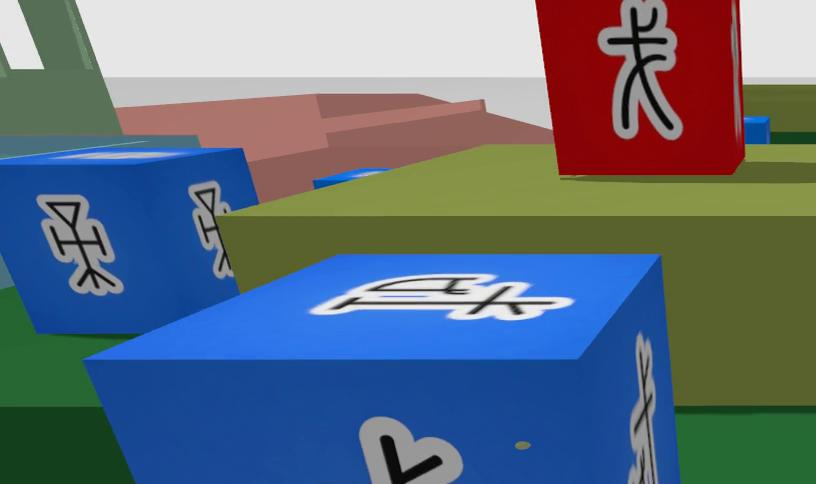KFS_FAKE: (536, 0, 744, 175), (600, 0, 682, 139)
KFS_REAL: (85, 249, 681, 484), (0, 146, 257, 333), (309, 273, 573, 319), (341, 416, 462, 484), (629, 334, 660, 484), (744, 116, 771, 143)
